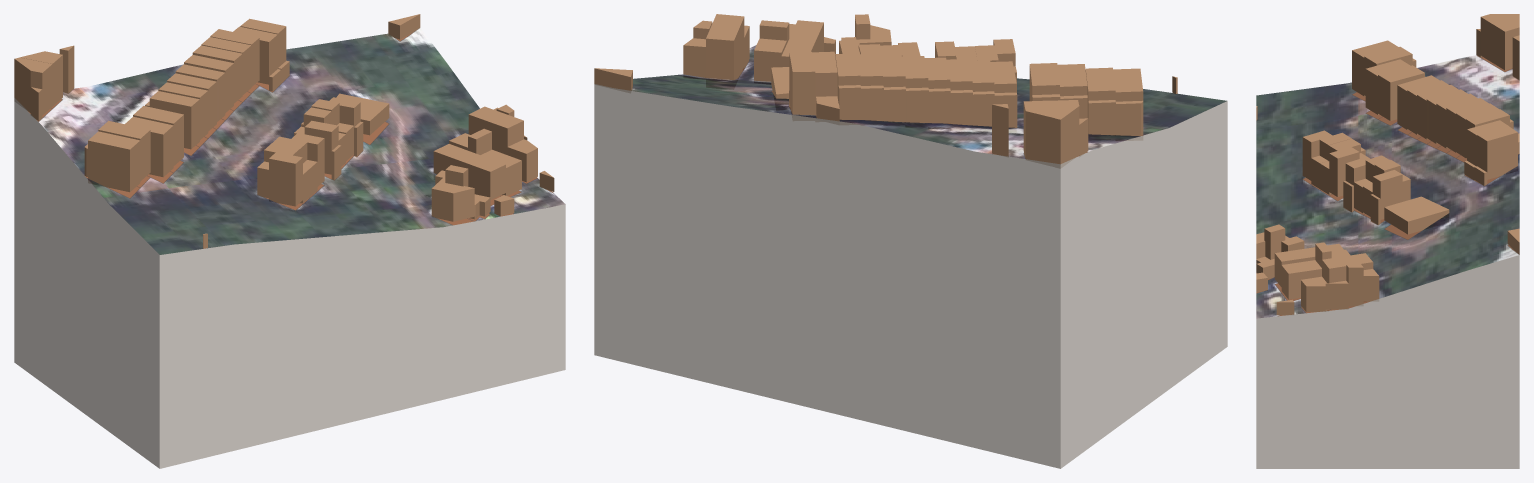
3 renders of one model, left to right at view 1: azimuth 30°, elevation 25°; view 2: azimuth 150°, elevation 25°; view 3: azimuth 270°, elevation 25°, orthographic. The views are drawn at different scales.
Visible parts, largest first — view 1: side (×2), dem4, buuilding_s4; view 2: side (×2), buuilding_s4, dem4; view 3: side, dem4, buuilding_s4.
Boxes of the visible parts, box(x1,y1,x2,y2) form: side (×2): box(14, 98, 565, 468); dem4: box(28, 28, 565, 254); buuilding_s4: box(14, 14, 554, 248); side (×2): box(594, 84, 1227, 468); buuilding_s4: box(594, 14, 1177, 165); dem4: box(631, 45, 1226, 158); side: box(1256, 255, 1519, 468); dem4: box(1256, 55, 1519, 318); buuilding_s4: box(1256, 14, 1519, 315).
Bounding box in the file's own units: 100 × 71.59 × 62.04.
Materials: 3 (1 with a texture image).
